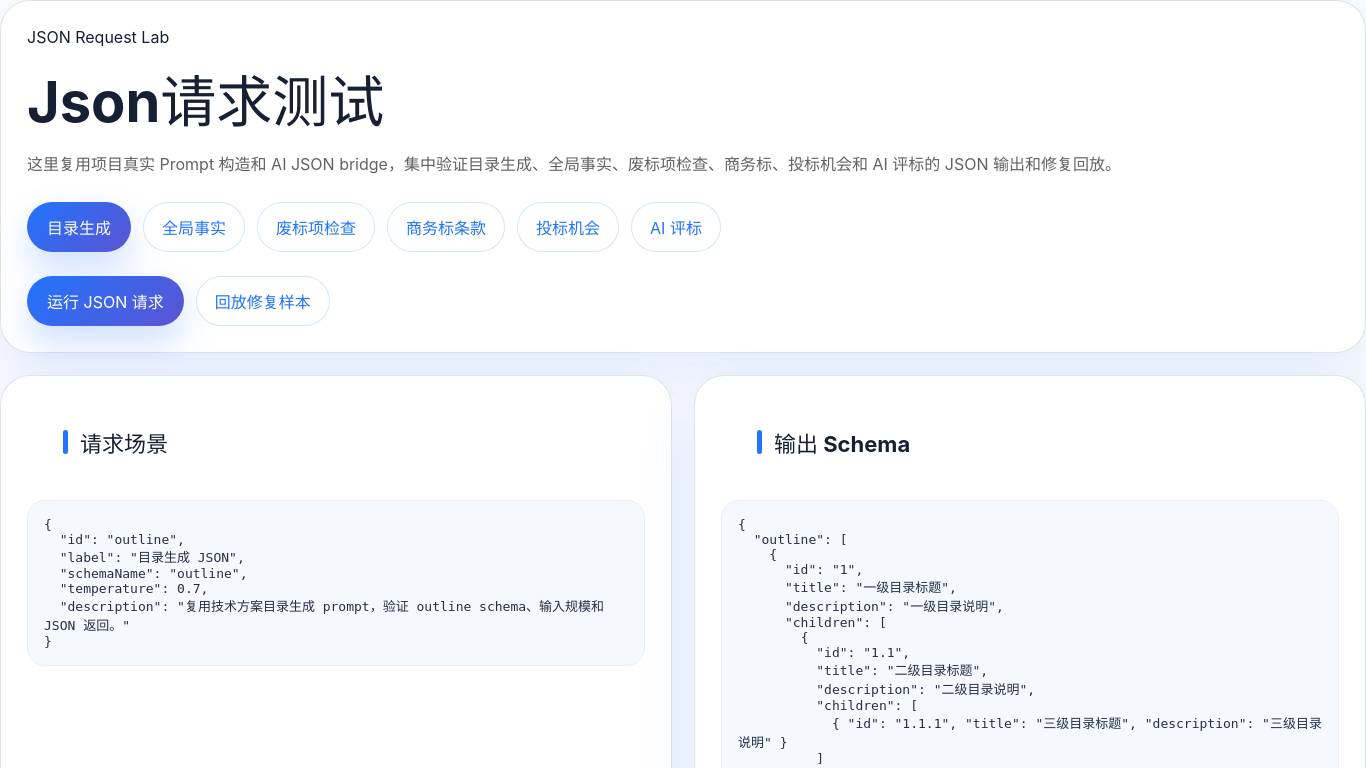
DeveloperTestPage › switches to global facts and shows groups schema with injected prompt content
Step 1. Click the tab "全局事实" → (194, 227), box [143,202,245,252]
(page scrolled)
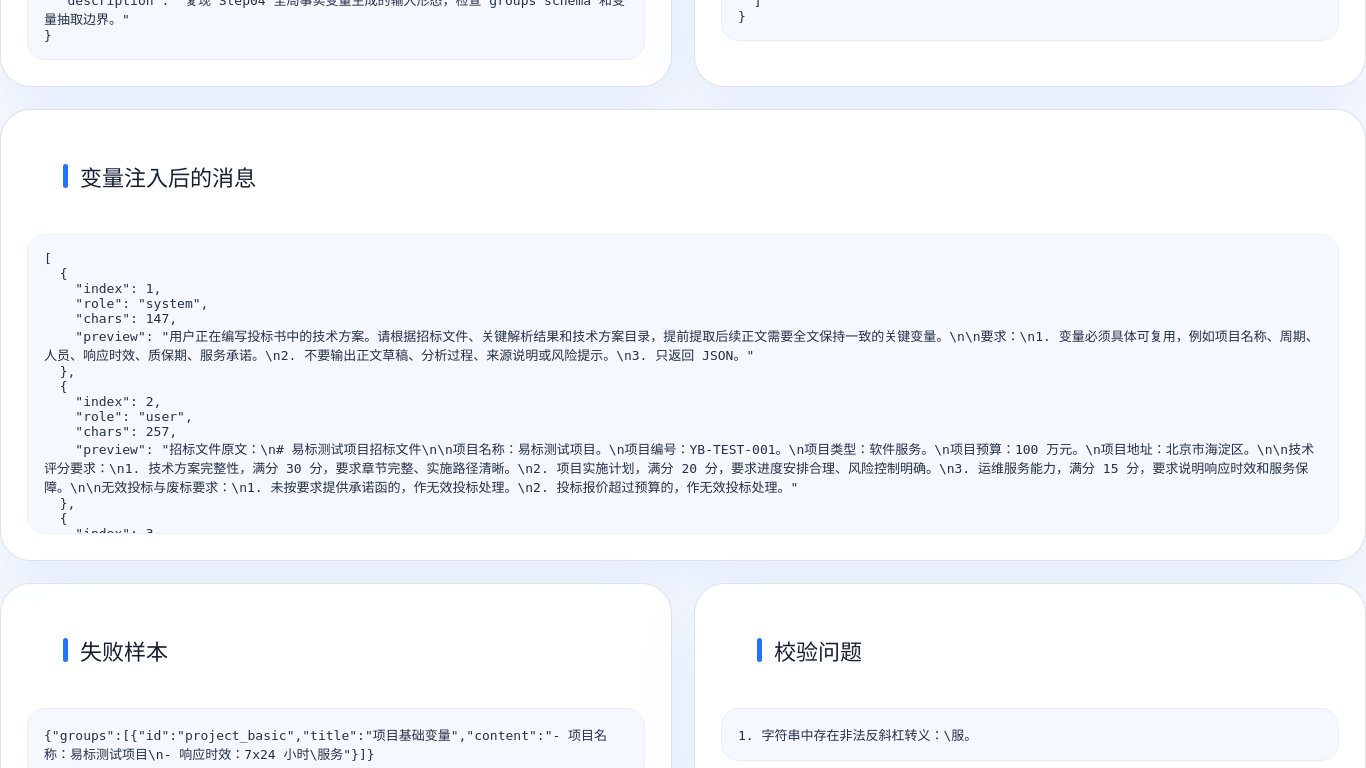
Now the text "后续正文需要全文保持一致的关键变量" is shown
